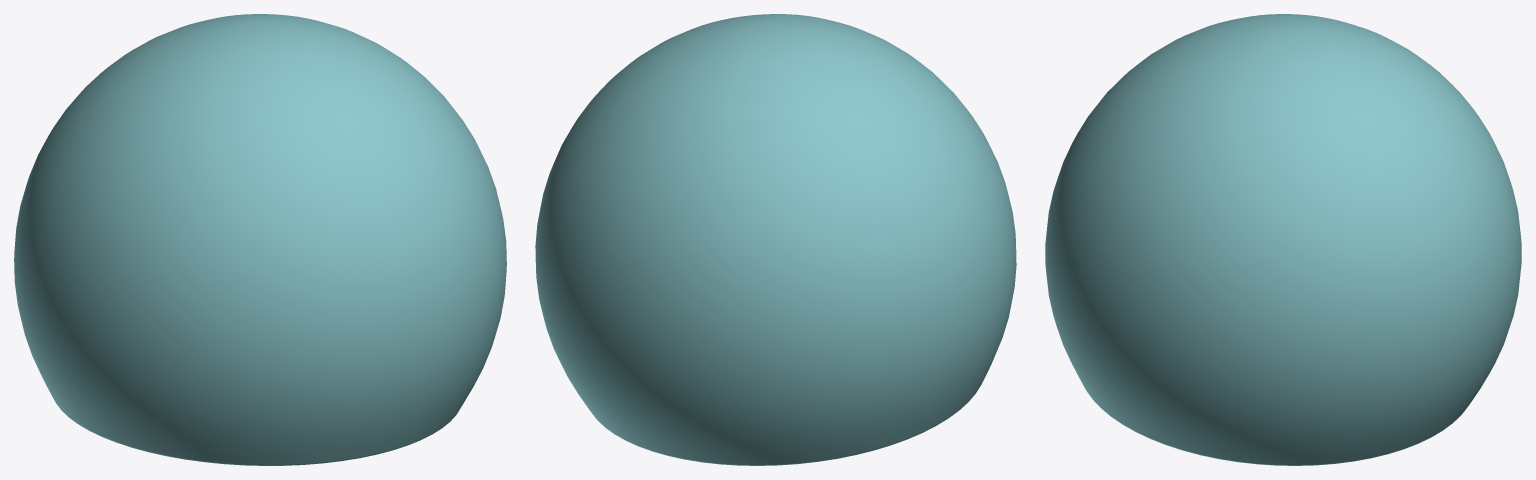
3 renders of one model, left to right at view 1: azimuth 30°, elevation 25°; view 2: azimuth 150°, elevation 25°; view 3: azimuth 270°, elevation 25°, orthographic. The views are drawn at different scales.
Visible parts, largest first — view 1: 右侧眼球后段; view 2: 右侧眼球后段; view 3: 右侧眼球后段.
Boxes of the visible parts, x1,y1,x2,y2 form: 右侧眼球后段: (14, 14, 506, 465); 右侧眼球后段: (535, 14, 1016, 465); 右侧眼球后段: (1045, 14, 1521, 465).
Bounding box in the file's own units: 0.0352 × 0.0286 × 0.0351.
